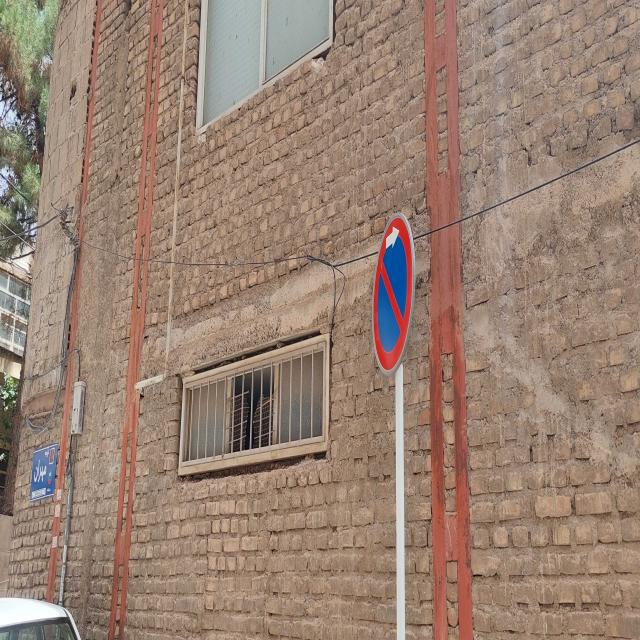forb_stopping: (372, 211, 414, 377)
